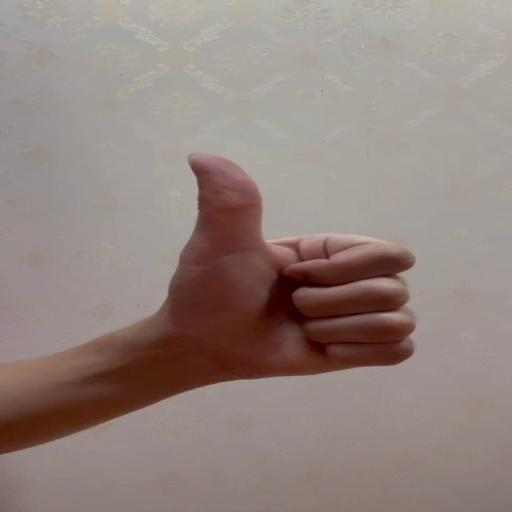thumbs_up: (183, 151, 420, 379)
